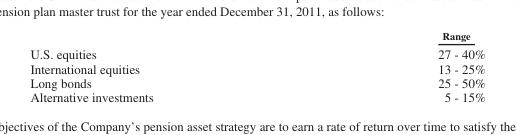table: (29, 29, 484, 103)
table column: (29, 29, 295, 103), (295, 29, 484, 103)
table column header: (29, 29, 484, 44)
table row: (29, 44, 484, 61), (29, 29, 484, 44), (29, 61, 484, 75), (29, 75, 484, 89), (29, 89, 484, 103)
